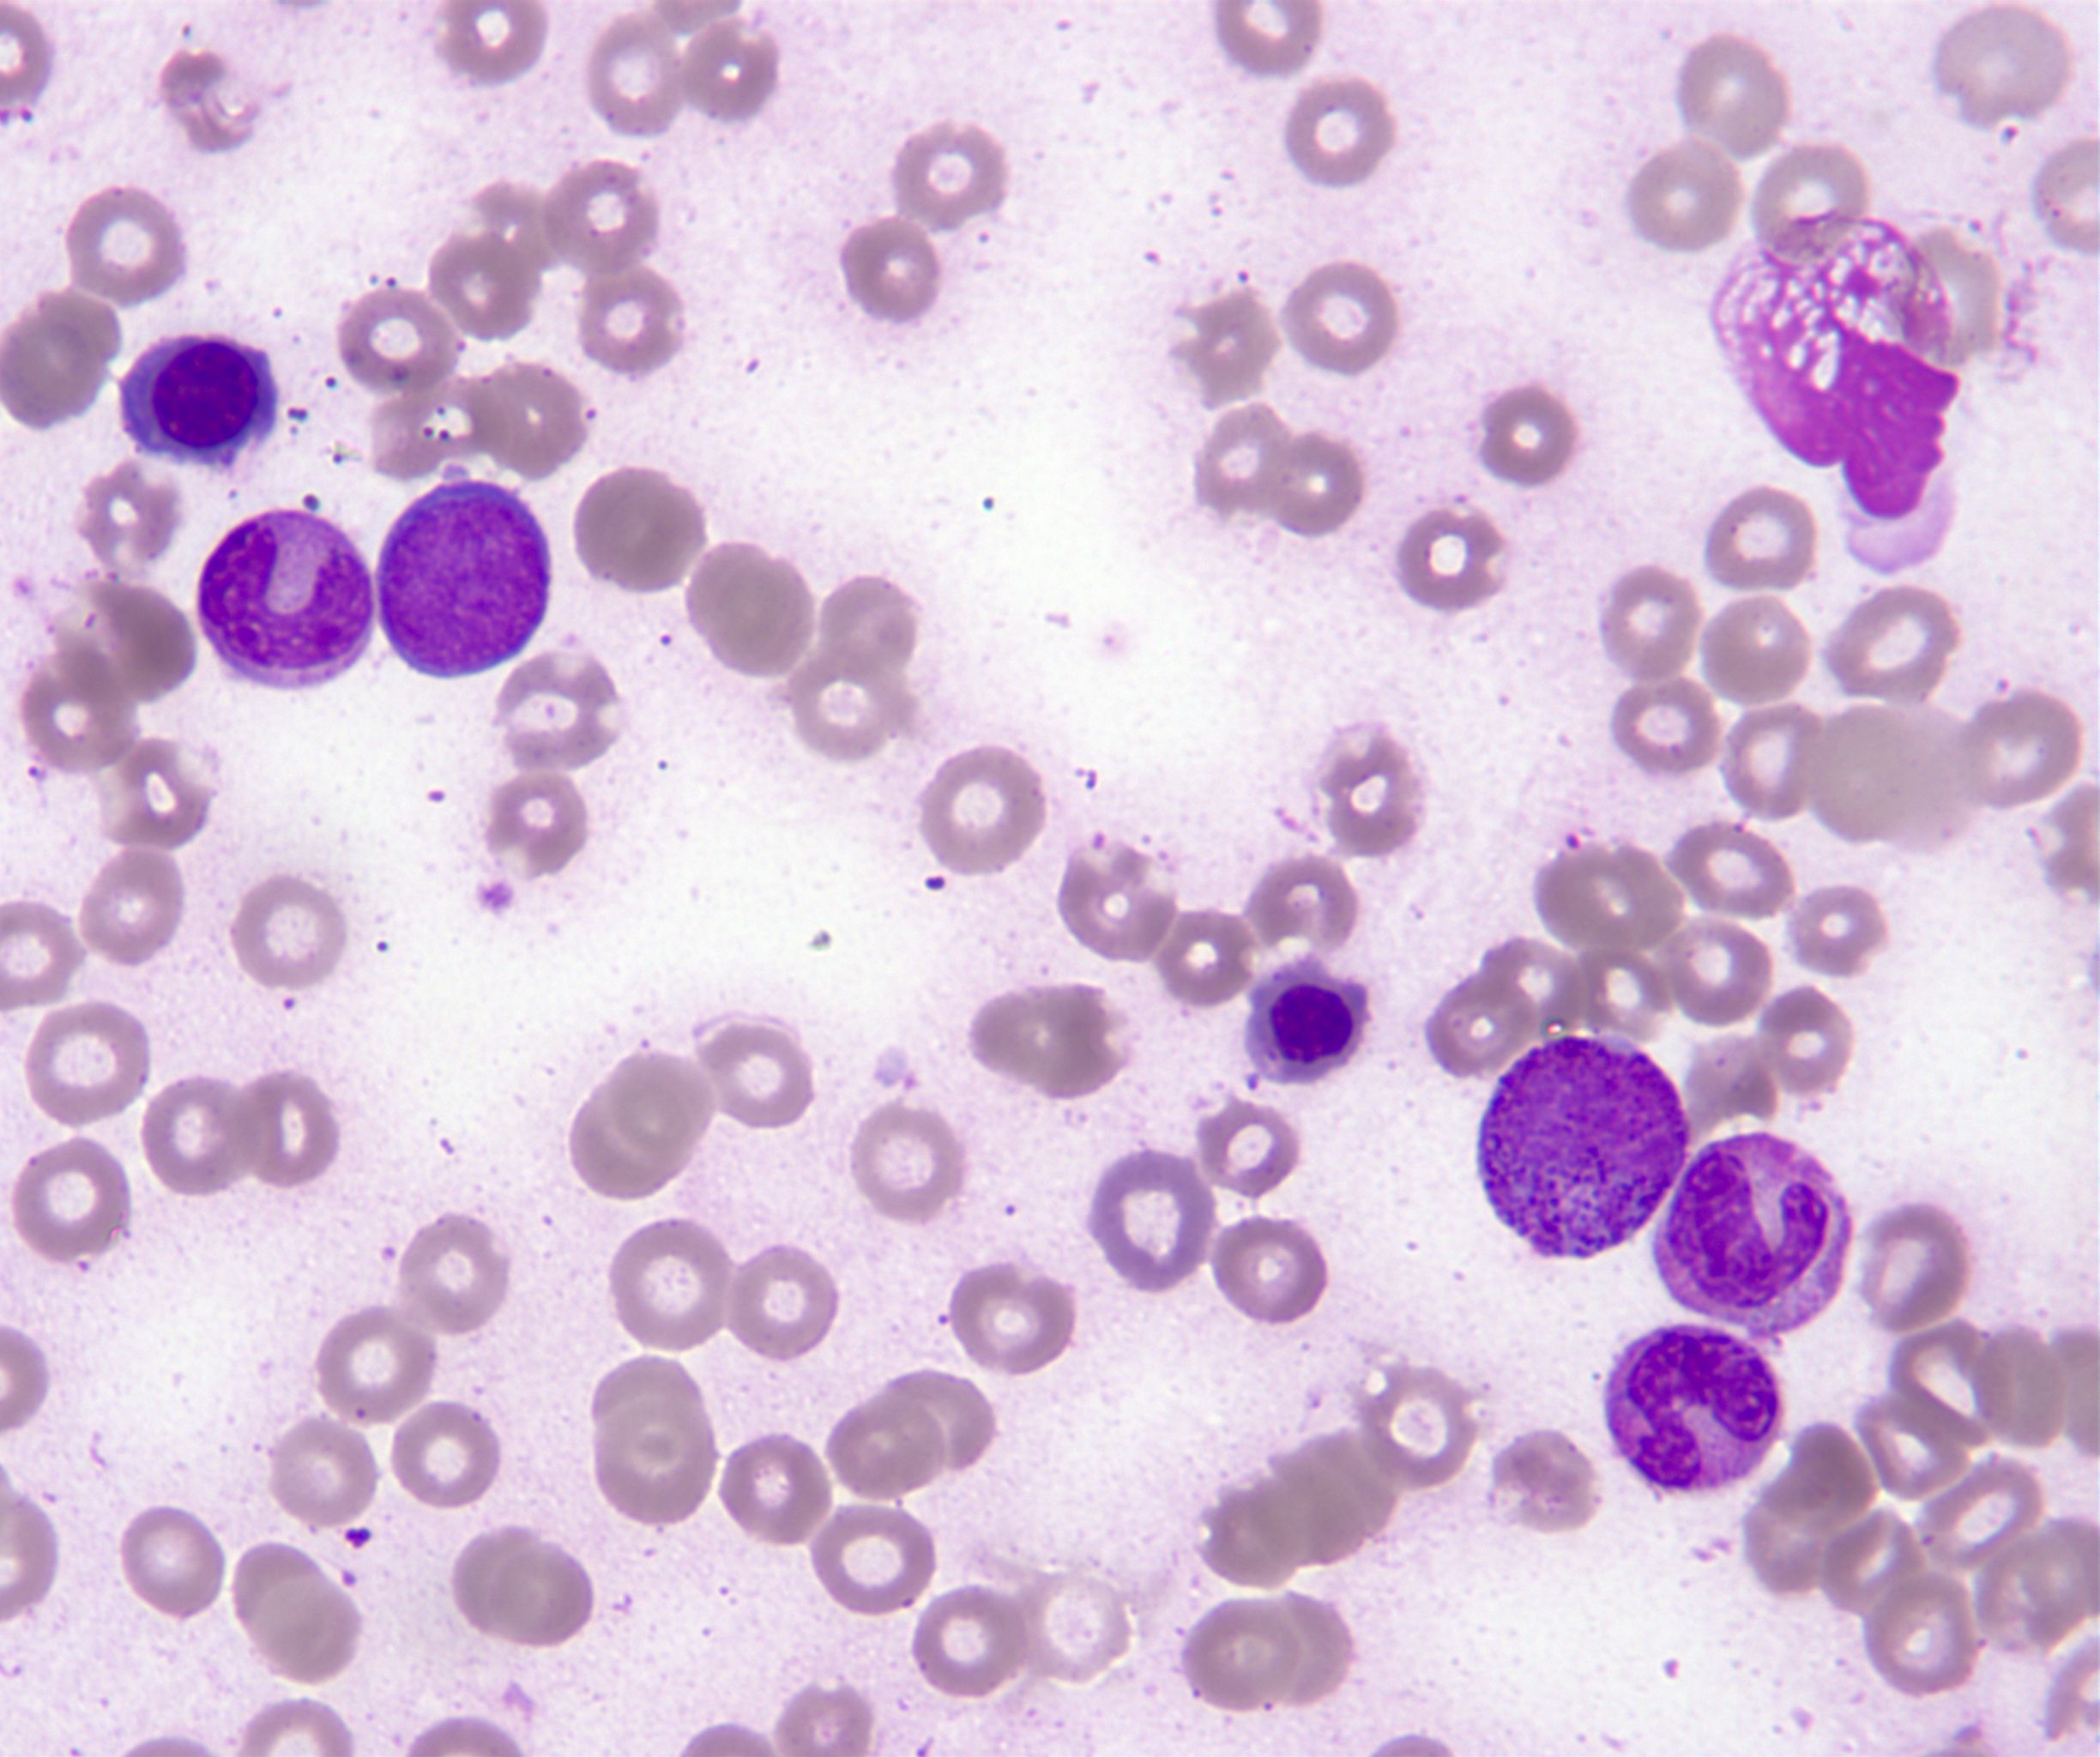1: (378, 483, 549, 675)
23: (120, 338, 279, 466)
24: (1245, 954, 1369, 1085)
3: (1477, 1036, 1688, 1261)
42: (1653, 1134, 1851, 1338)
5: (197, 509, 377, 687), (1605, 1323, 1784, 1492)
x: (1708, 215, 1959, 520)
